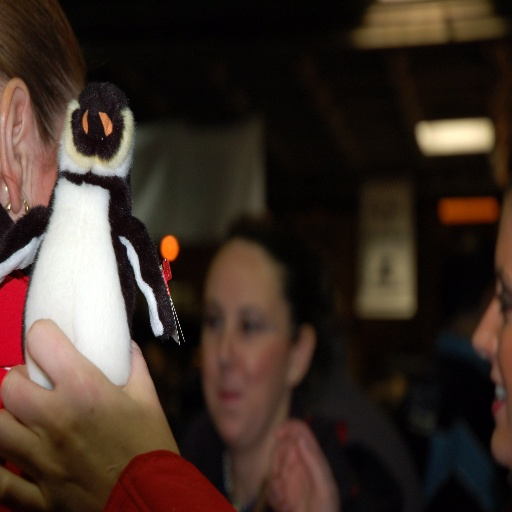hand: (0, 329, 176, 509), (271, 418, 338, 511)
